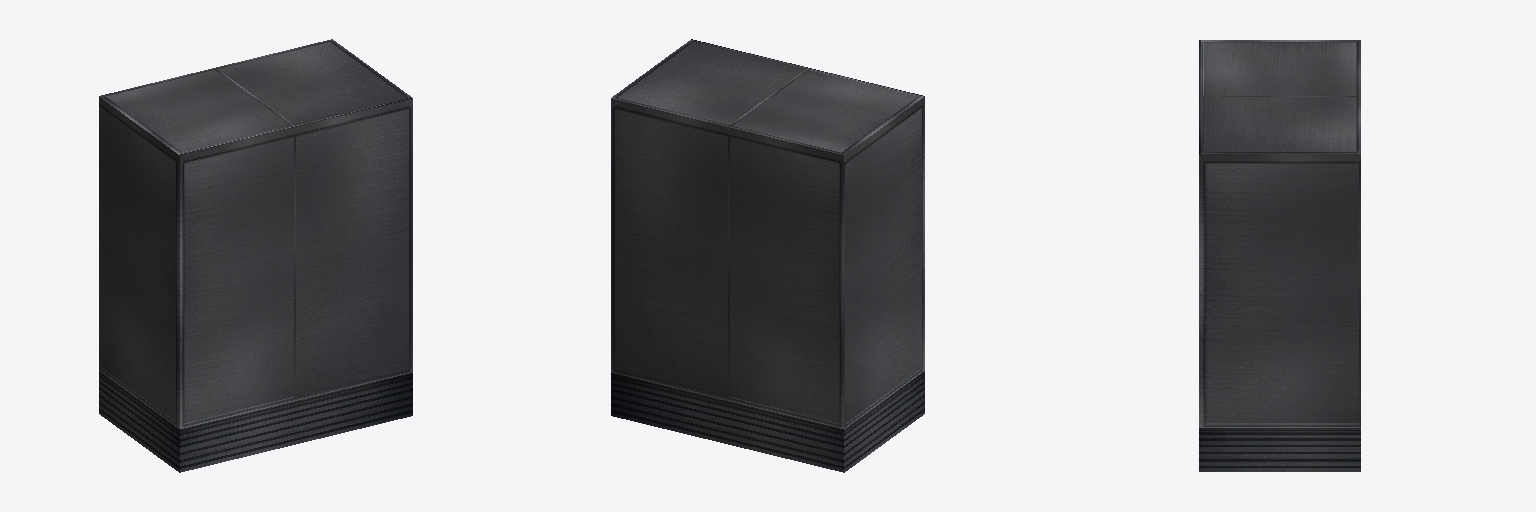
The picture shows the model from 3 angles: view 1: azimuth 30°, elevation 25°; view 2: azimuth 150°, elevation 25°; view 3: azimuth 270°, elevation 25°; orthographic projection.
Parts seen in each view (by area): view 1: electricBox_5; view 2: electricBox_5; view 3: electricBox_5.
Boxes of the visible parts, x1=… form: electricBox_5: x1=99, y1=39, x2=412, y2=472; electricBox_5: x1=611, y1=39, x2=924, y2=472; electricBox_5: x1=1199, y1=40, x2=1360, y2=471.
Bounding box in the file's own units: 0.6652 × 0.8628 × 0.3988.
Materials: 1 (1 with a texture image).